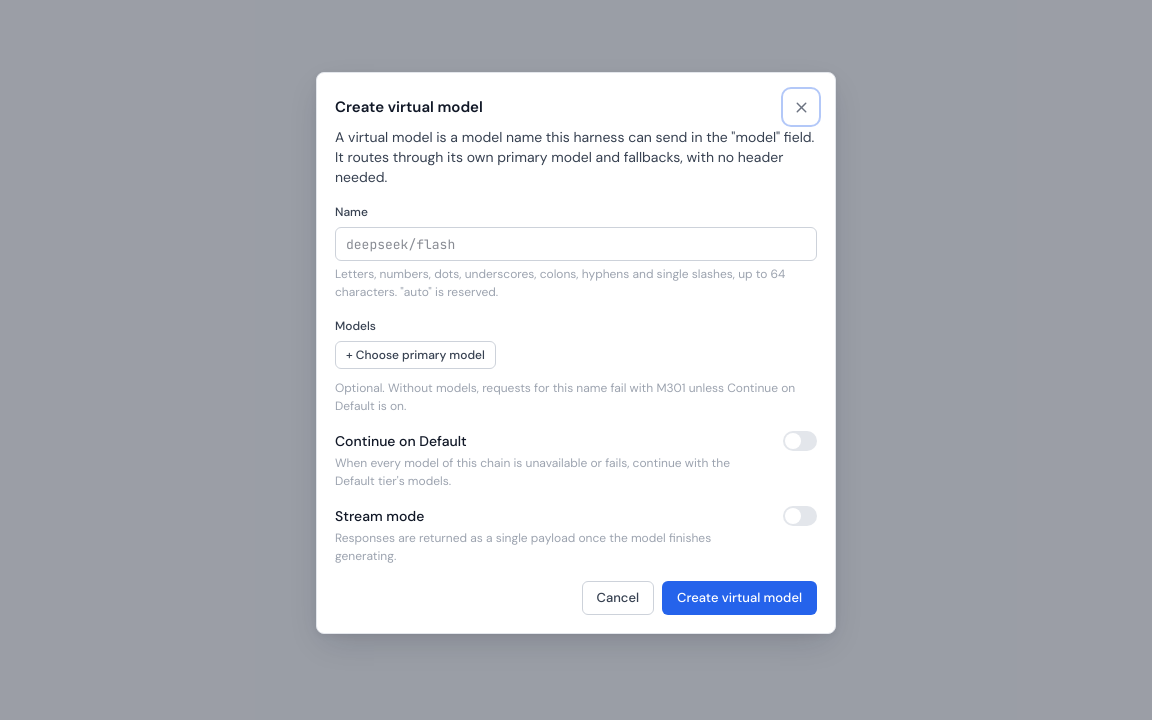
VirtualModelModal › does not submit an invalid name
This screenshot has width=1152, height=720.
Click the button "Create virtual model" at (740, 598), box [662,581,817,615]
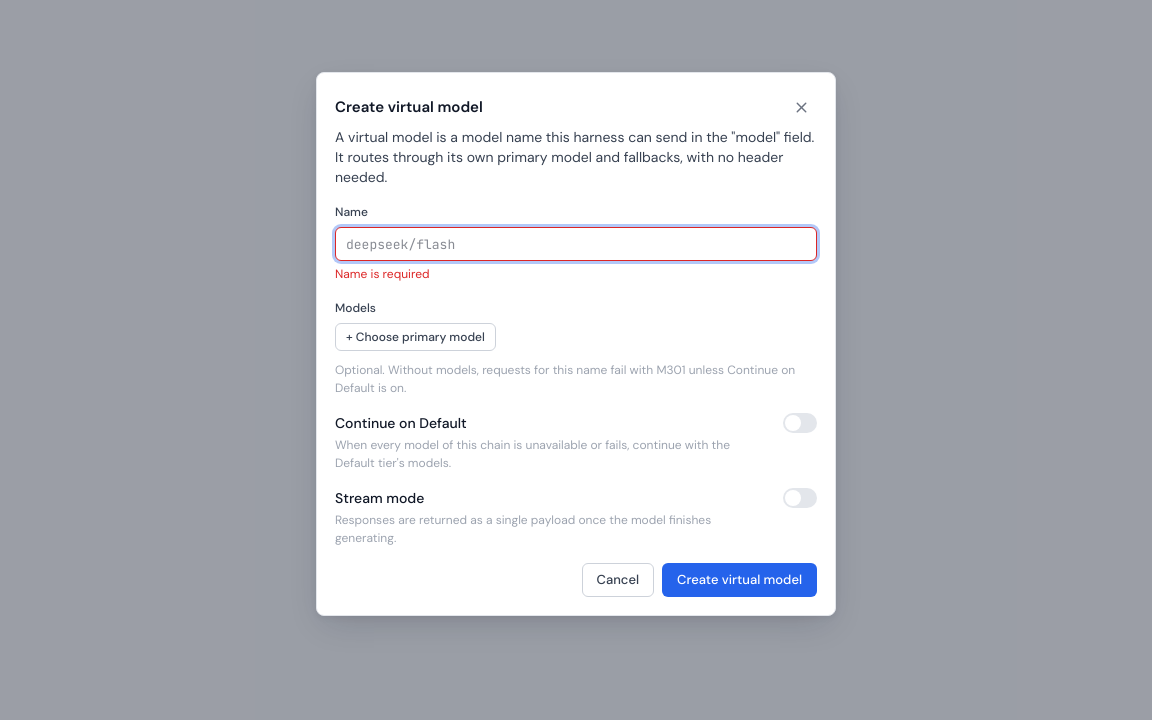
Expected: the message reads "Name is required", [335,266,430,282]
